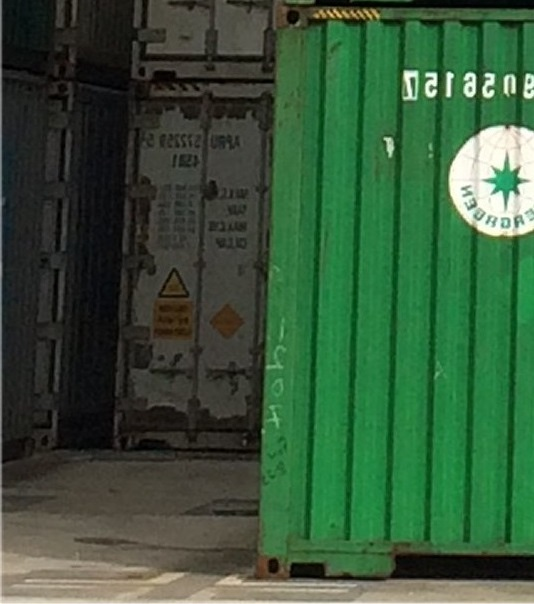container_door: (118, 80, 274, 447)
container_no_door: (259, 6, 532, 578)
